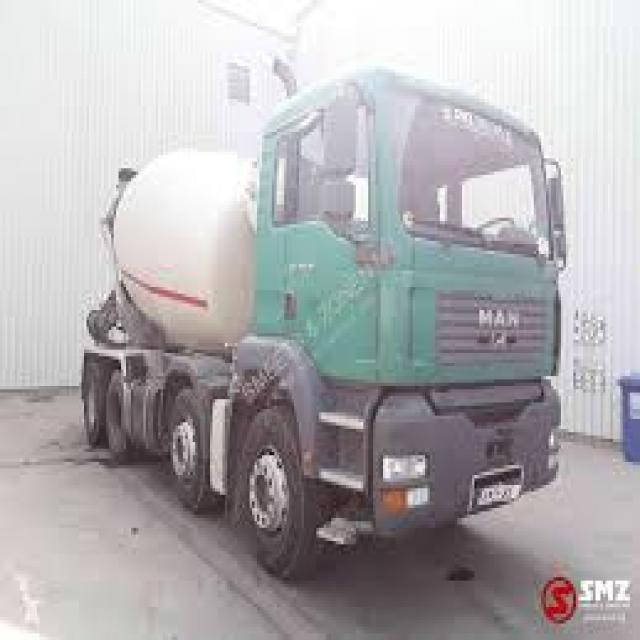Mixer Truck: (78, 61, 568, 584)
